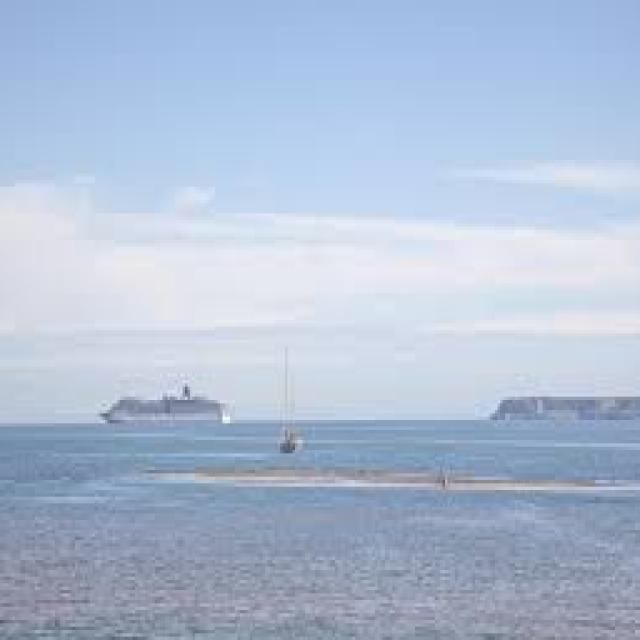cargoship: (106, 378, 240, 431)
